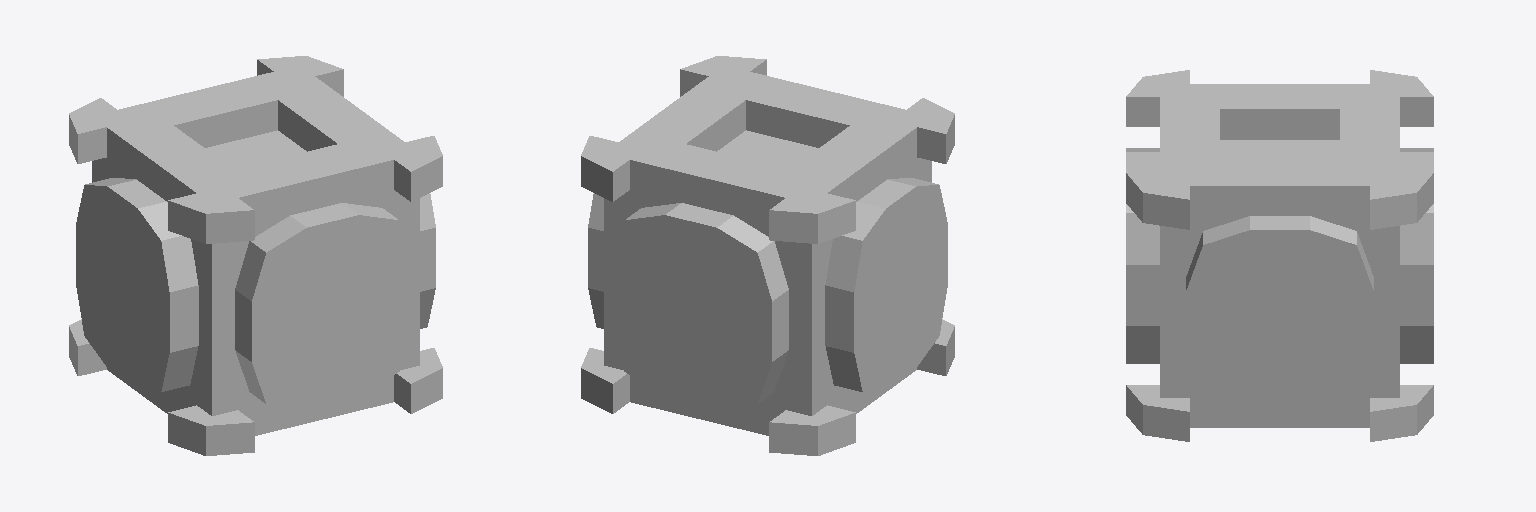
Rendered from RadiatingChamber.obj.
3 renders of one model, left to right at view 1: azimuth 30°, elevation 25°; view 2: azimuth 150°, elevation 25°; view 3: azimuth 270°, elevation 25°, orthographic.
Visible parts, largest first — view 1: pCube1; view 2: pCube1; view 3: pCube1.
Boxes of the visible parts, x1,y1,x2,y2 form: pCube1: [69, 56, 442, 455]; pCube1: [581, 56, 954, 455]; pCube1: [1126, 70, 1433, 441].
Bounding box in the file's own units: 1.15 × 1 × 1.15.